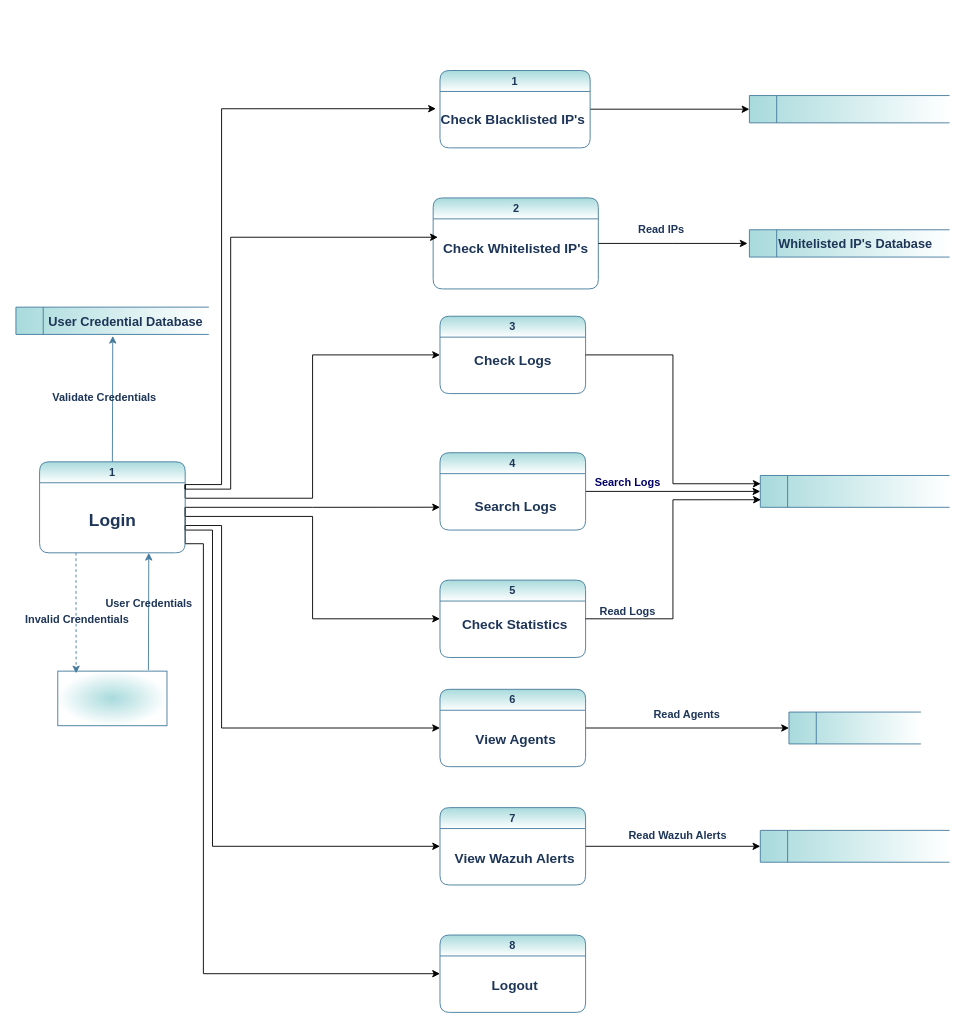
Some shapes in this 966 by 1028 pixel diagram are drawn without their labels. The box of each missing label's shape, as (x1, y1, x2, y2) in pixels:
Agent Database: (788, 711, 921, 744)
Blacklisted IP's Database: (748, 95, 950, 123)
Network Logs Database: (759, 475, 950, 507)
Watcher: (57, 670, 167, 726)
Wazuh Alerts Database: (759, 829, 950, 862)
